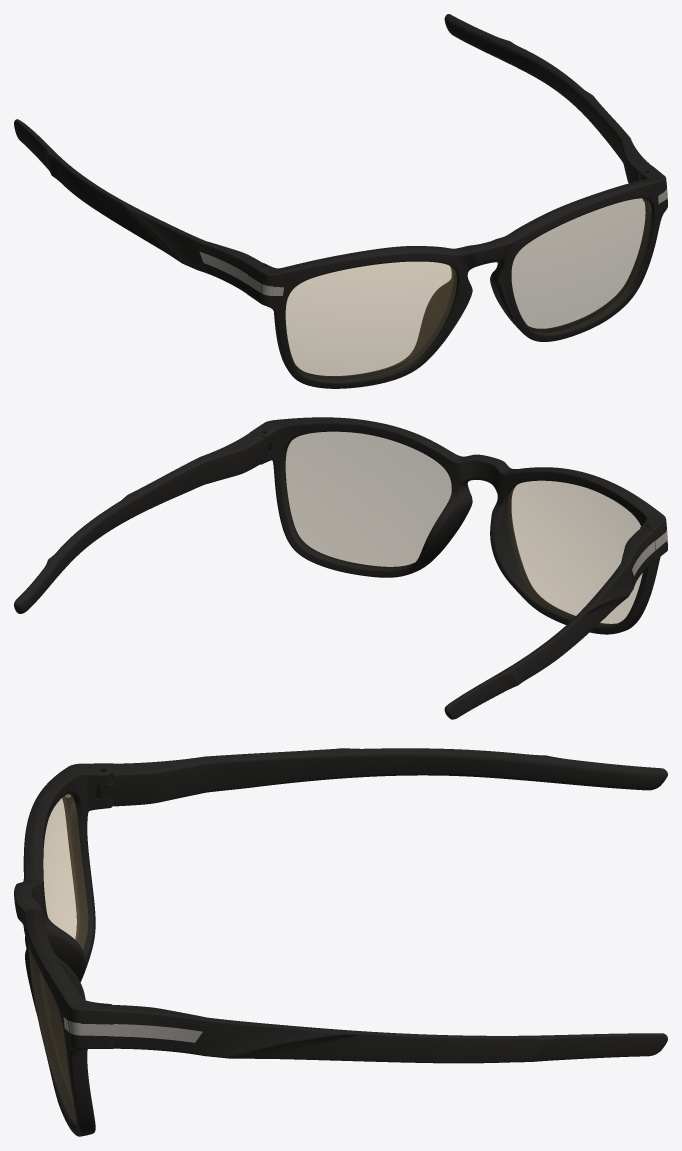
File: B0FR1VSGLF.glb
3 views of the same model, one above another, from view 1: azimuth 30°, elevation 25°; view 2: azimuth 150°, elevation 25°; view 3: azimuth 270°, elevation 25° (orthographic). The views are drawn at different scales.
Visible parts, largest first — view 1: Frame, LensR, LensL, TempleR, TempleL; view 2: LensL, Frame, LensR, TempleL, TempleR; view 3: Frame, TempleL, TempleR, LensR, LensL.
Part boxes in pixels (<box>): Frame: <box>246,166,667,388</box>; LensR: <box>286,262,456,379</box>; LensL: <box>512,198,651,332</box>; TempleR: <box>14,119,262,293</box>; TempleL: <box>444,14,651,183</box>; LensL: <box>284,432,451,567</box>; Frame: <box>250,417,667,634</box>; LensR: <box>507,481,642,624</box>; TempleL: <box>14,432,263,613</box>; TempleR: <box>444,529,655,719</box>; Frame: <box>14,763,115,1136</box>; TempleL: <box>113,1005,667,1063</box>; TempleR: <box>113,748,667,806</box>; LensR: <box>43,794,87,948</box>; LensL: <box>28,946,76,1123</box>.
Size of the model in its own units: 0.1671 by 0.048 by 0.1586.
4 materials, 4 textured.
